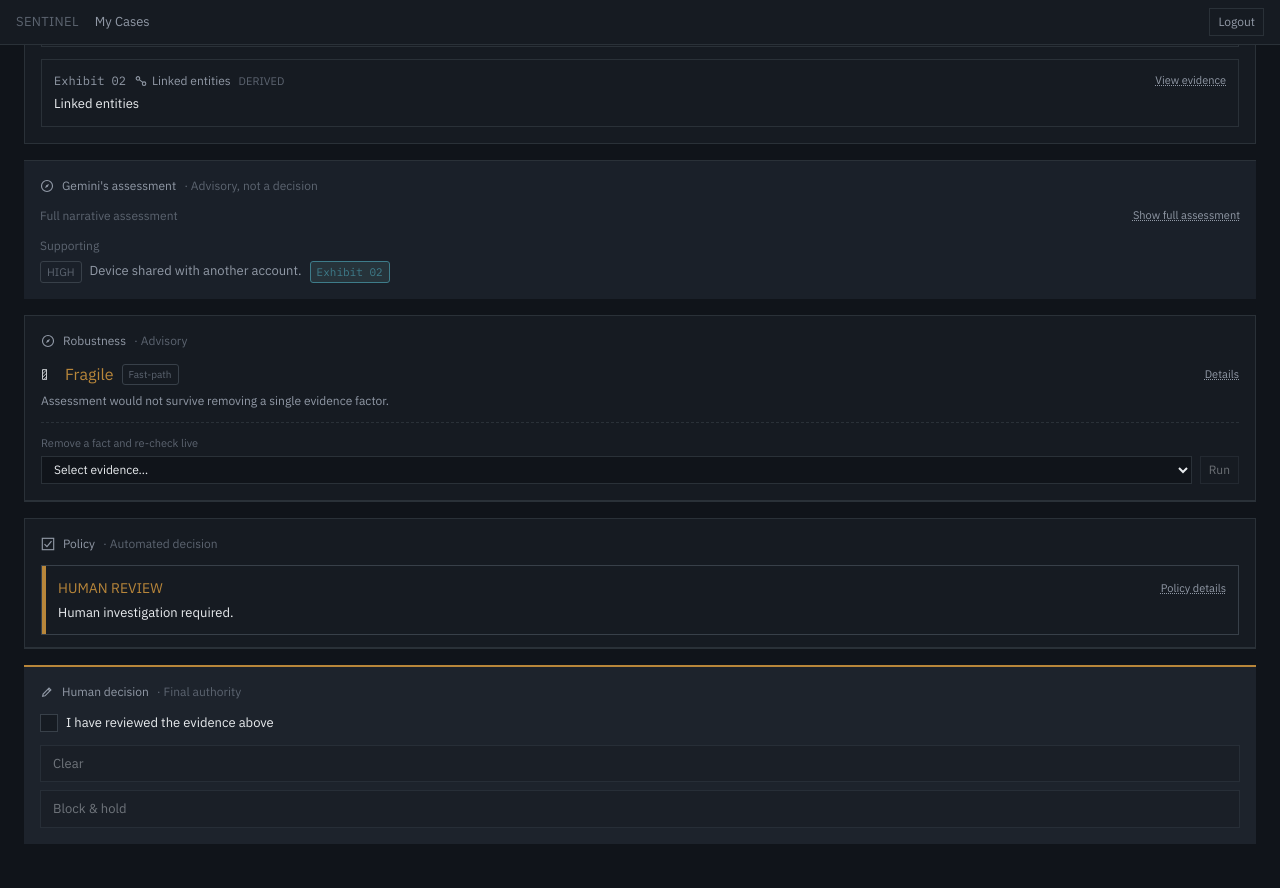
Test: CaseDetailPage › after a successful CLEAR decision, shows the Case Cleared confirmation and does not refetch
This screenshot has width=1280, height=888.
(page scrolled)
Click the text "I have reviewed the evidence above" at (157, 723), box top-left (40, 714), bottom-right (274, 732)
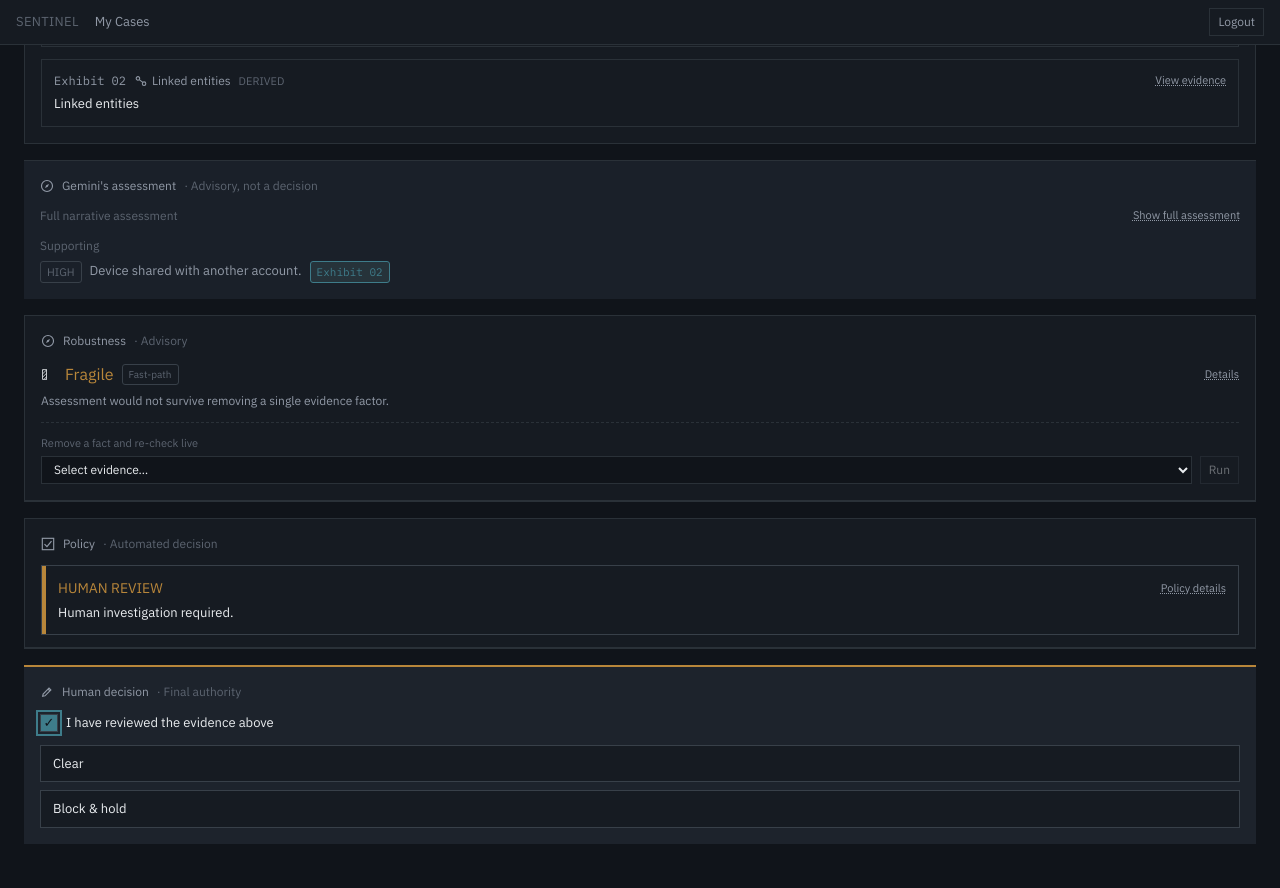
Click the button "Clear" at (68, 763), box top-left (40, 744), bottom-right (1240, 782)
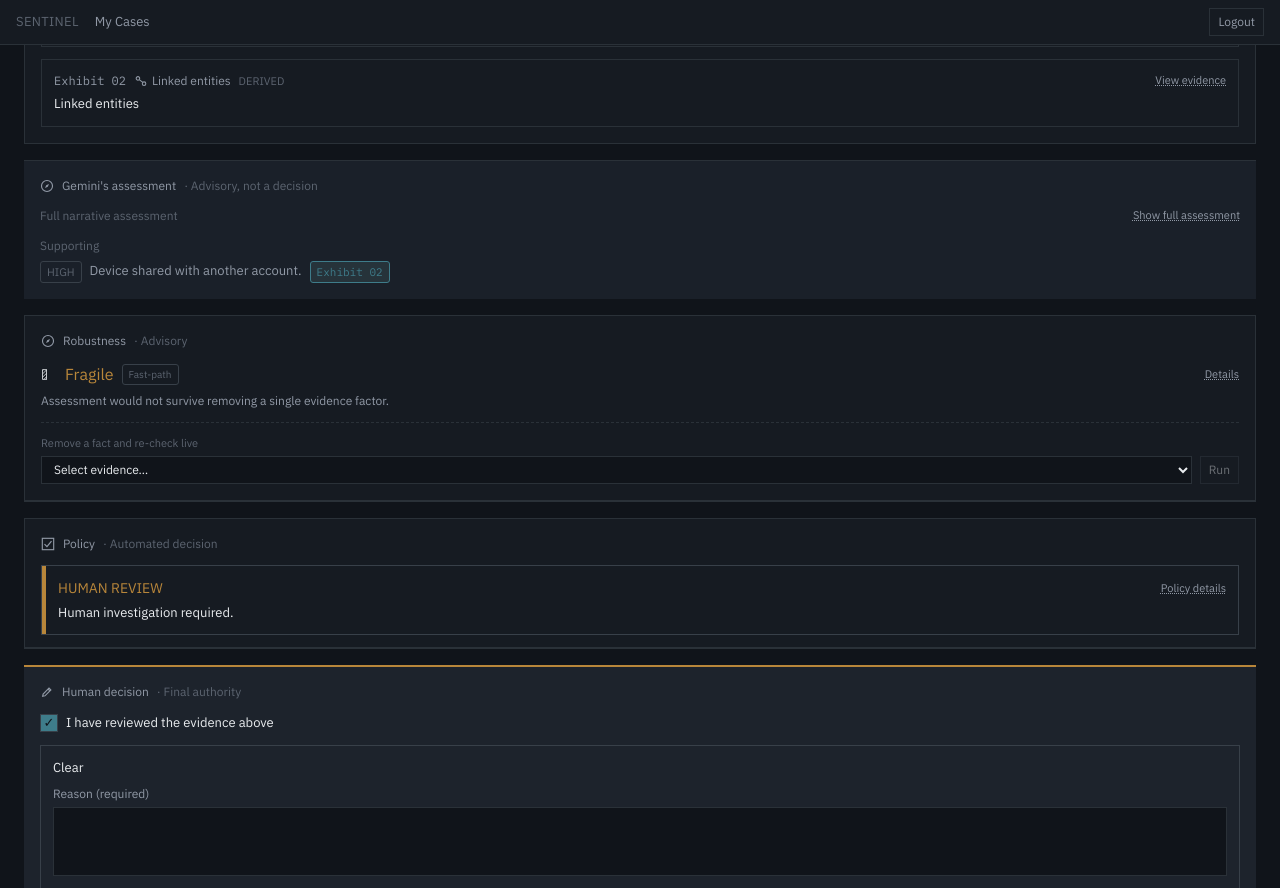
Type "Reviewed, legitimate purchase" into the text box labelled "Reason (required)" at (640, 841), box top-left (53, 807), bottom-right (1227, 876)
(page scrolled)
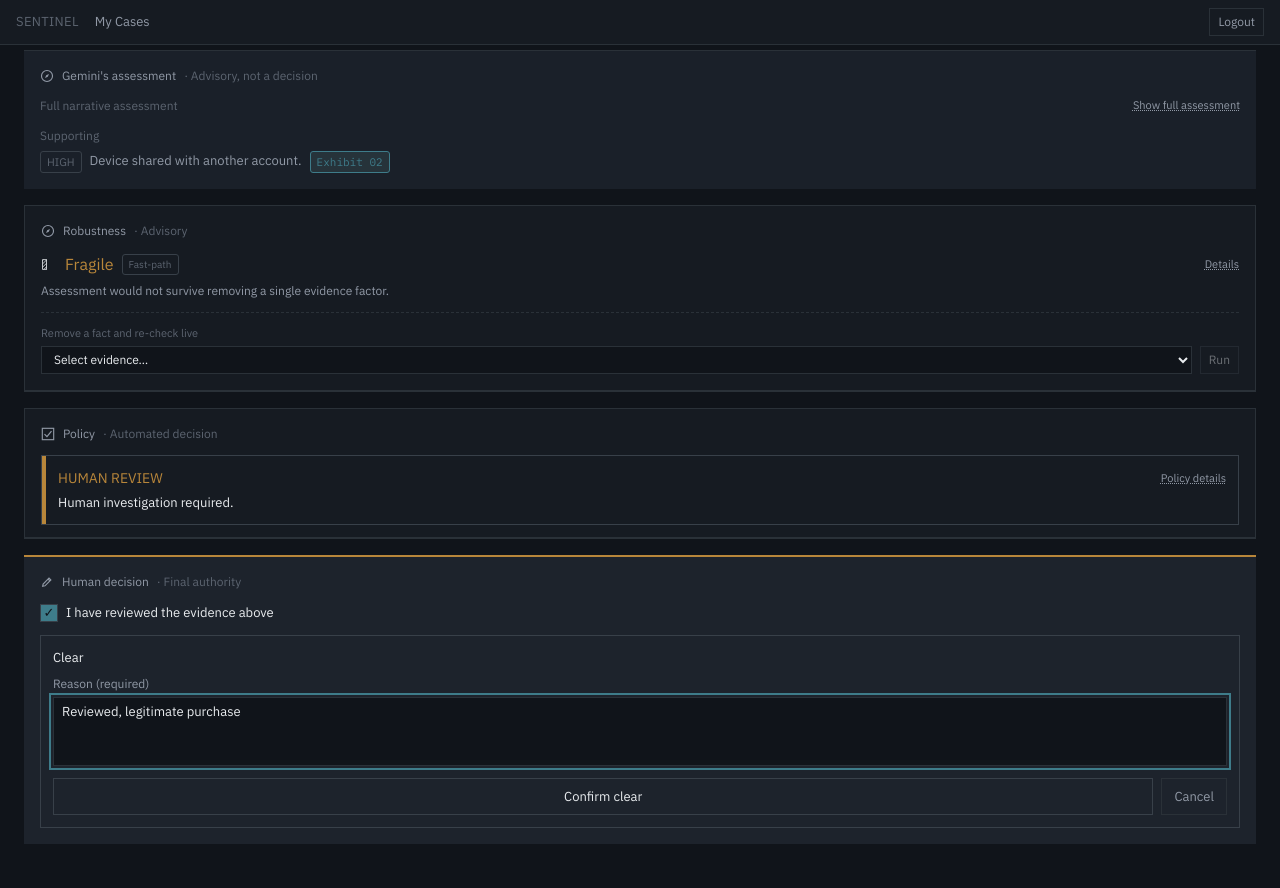
Click the button "Confirm clear" at (603, 796), box top-left (53, 778), bottom-right (1154, 815)
(page scrolled)
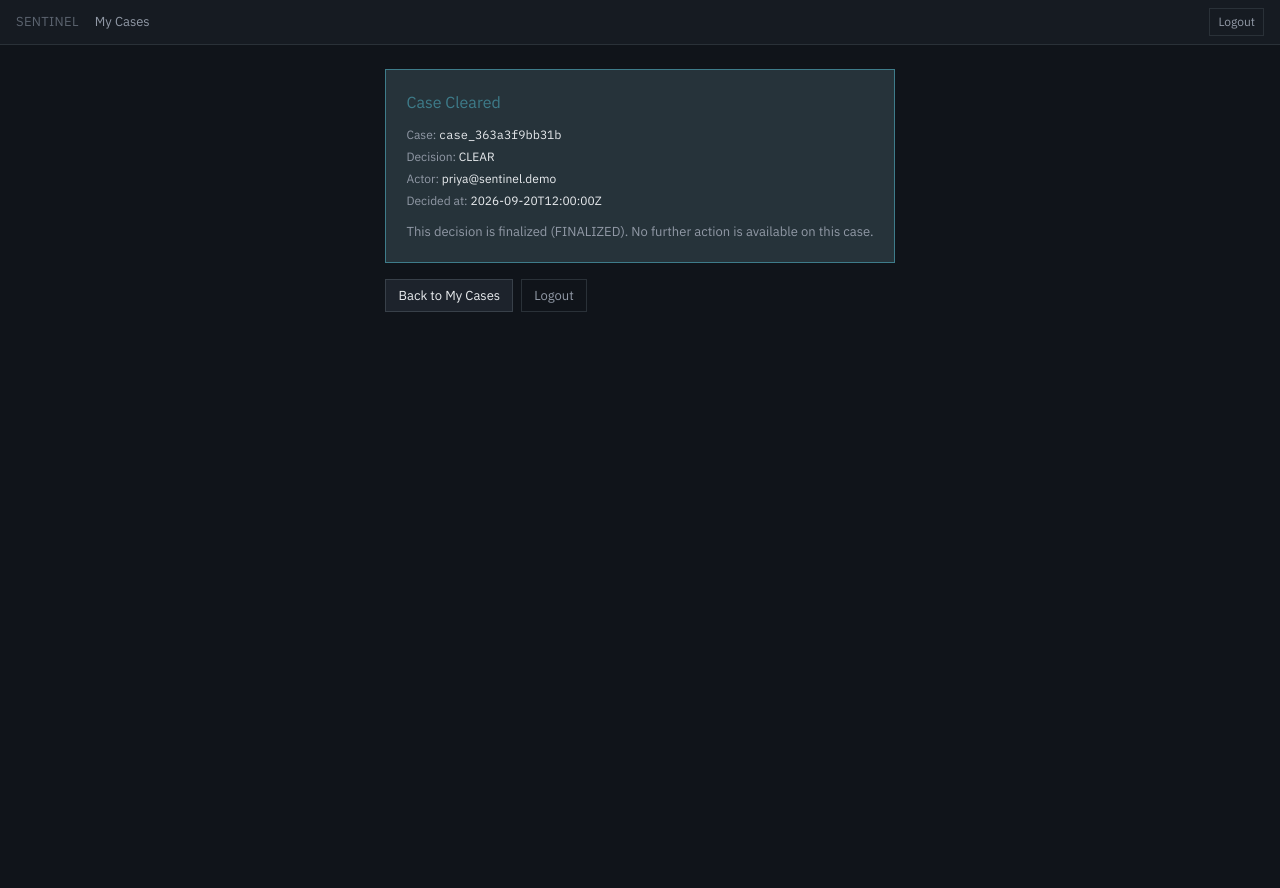
Expected: the text "Case Cleared" is shown, top-left (406, 92), bottom-right (501, 112)
